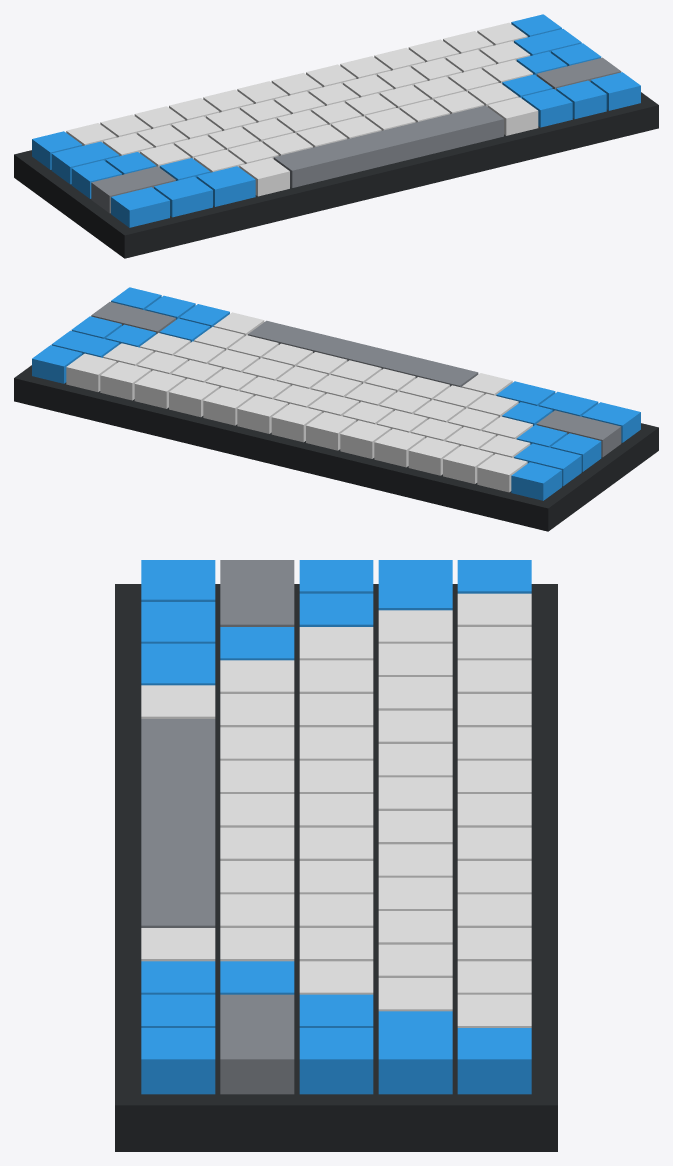
Rendered from 05-keyboard-65-white-blue.glb.
3 renders of one model, top to bottom at view 1: azimuth 30°, elevation 25°; view 2: azimuth 150°, elevation 25°; view 3: azimuth 270°, elevation 25°, orthographic. The views are drawn at different scales.
Bounding box in the file's own units: 0.2886 × 0.021 × 0.1036.
